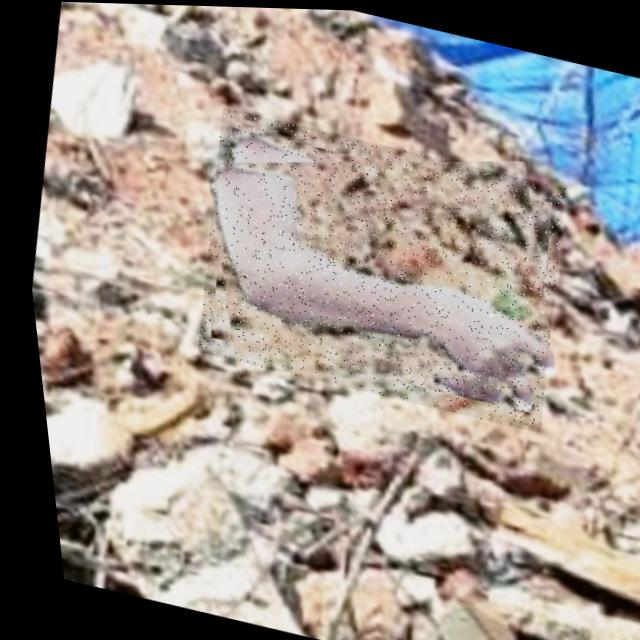Person in Rubble: (168, 104, 583, 431)
